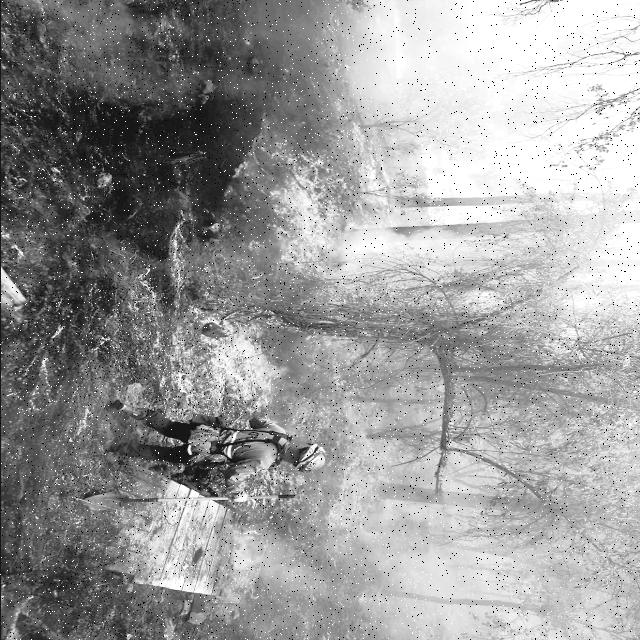api: (123, 378, 159, 415)
asap: (315, 1, 640, 242), (213, 519, 463, 640), (27, 1, 285, 115), (325, 225, 499, 291)
